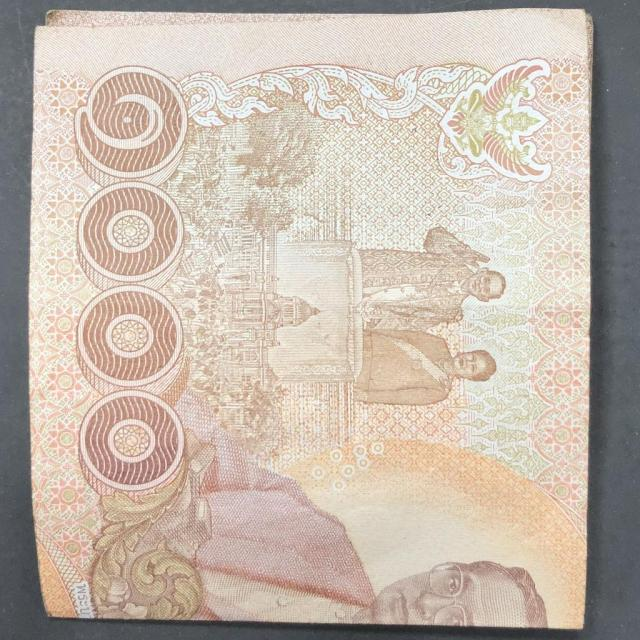THAI1000: (31, 9, 592, 628)
